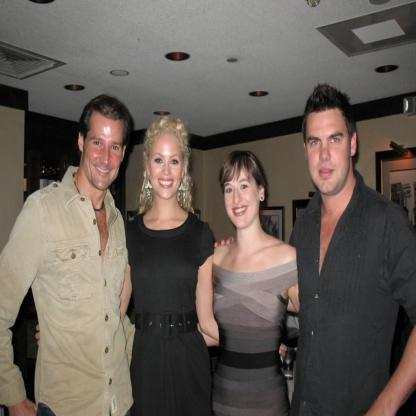face: (306, 110, 347, 195), (83, 115, 123, 191), (224, 168, 260, 227), (149, 138, 182, 201)
